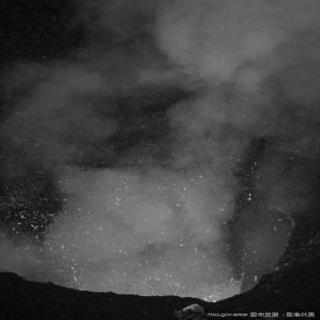Fire: (24, 174, 284, 306)
